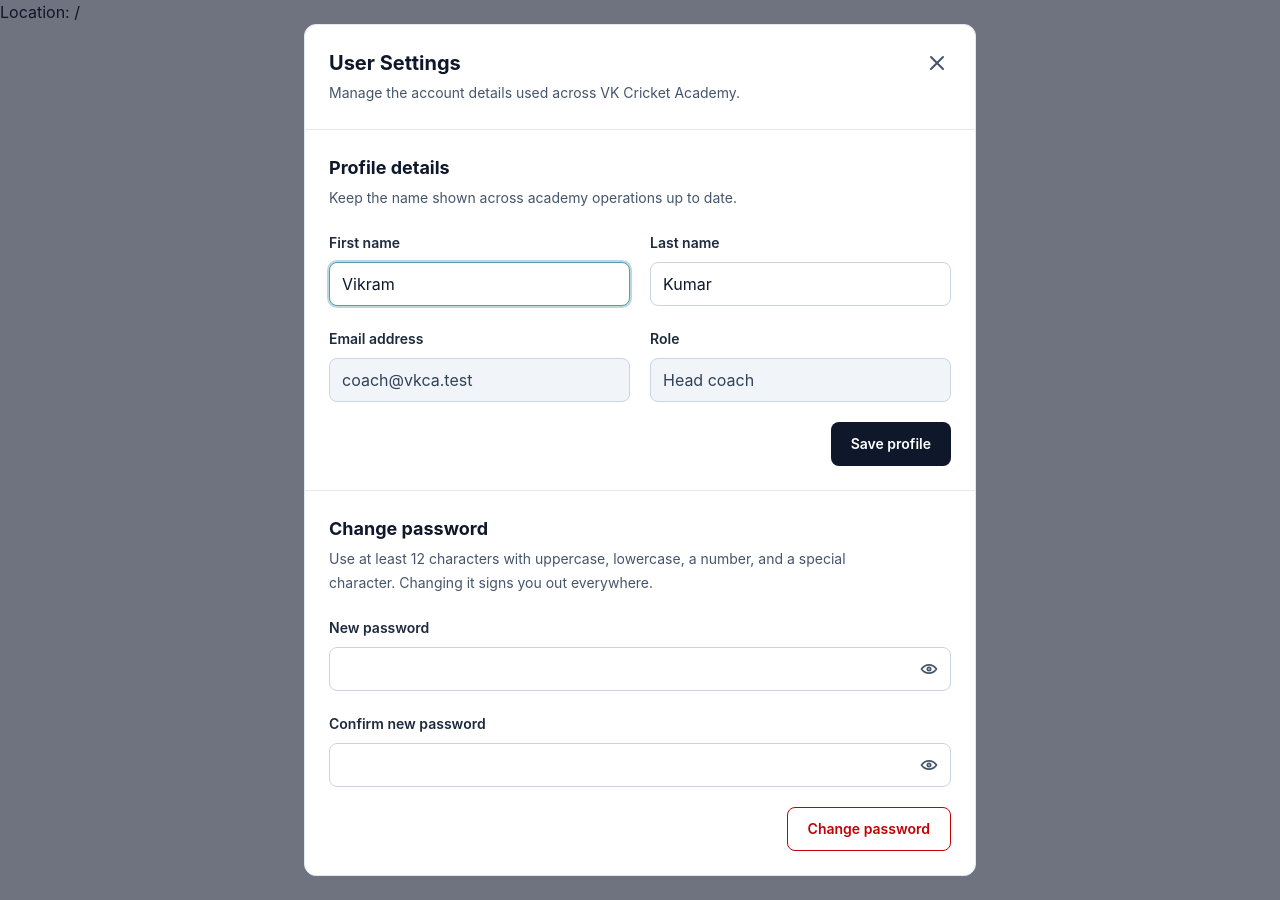
AccountSettingsModal › shows safe profile-update failure feedback
Replace the text in the field labelled "First name" with "Updated": (480, 284) [329,262,630,306]
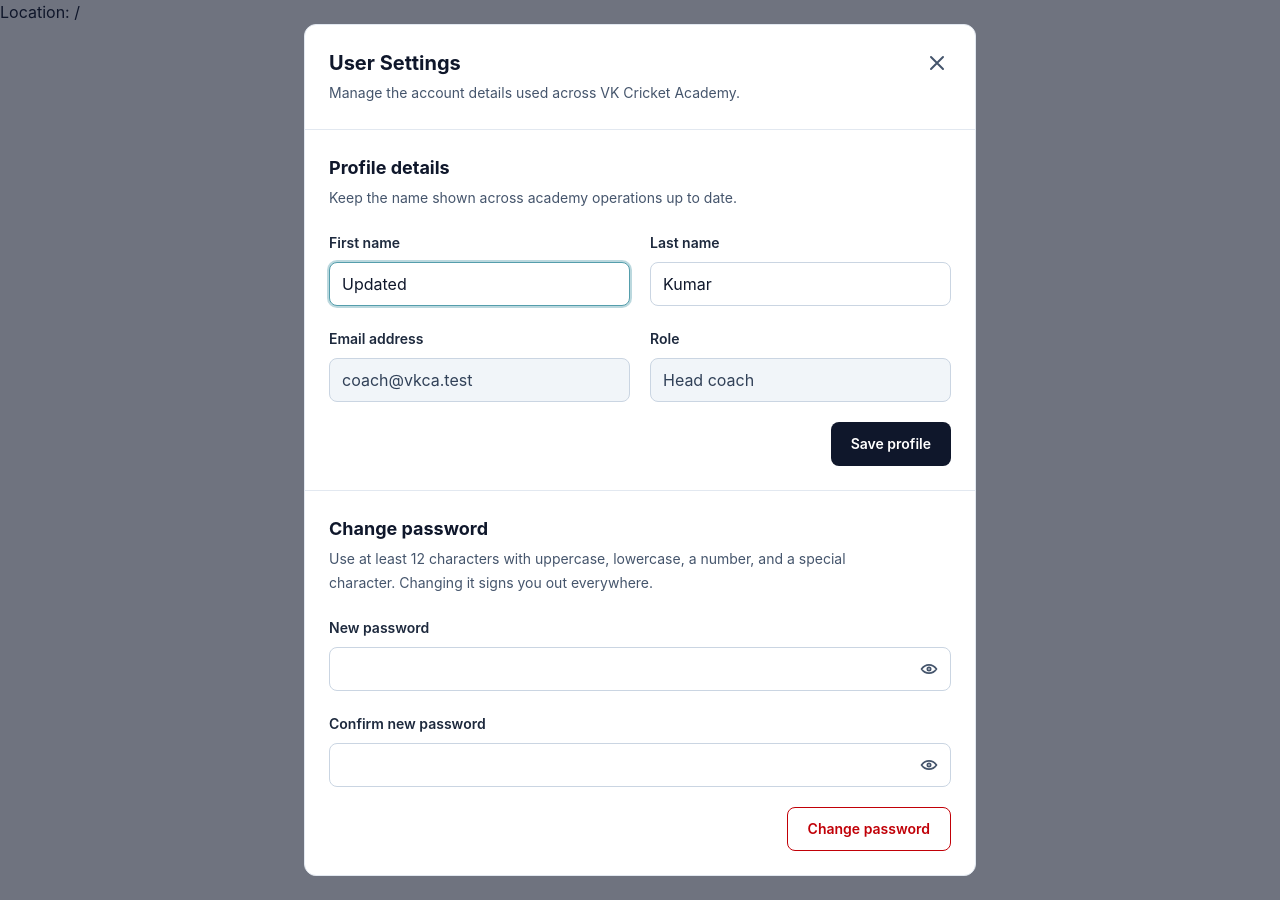
Click the button "Save profile": (891, 444) [831,422,951,466]
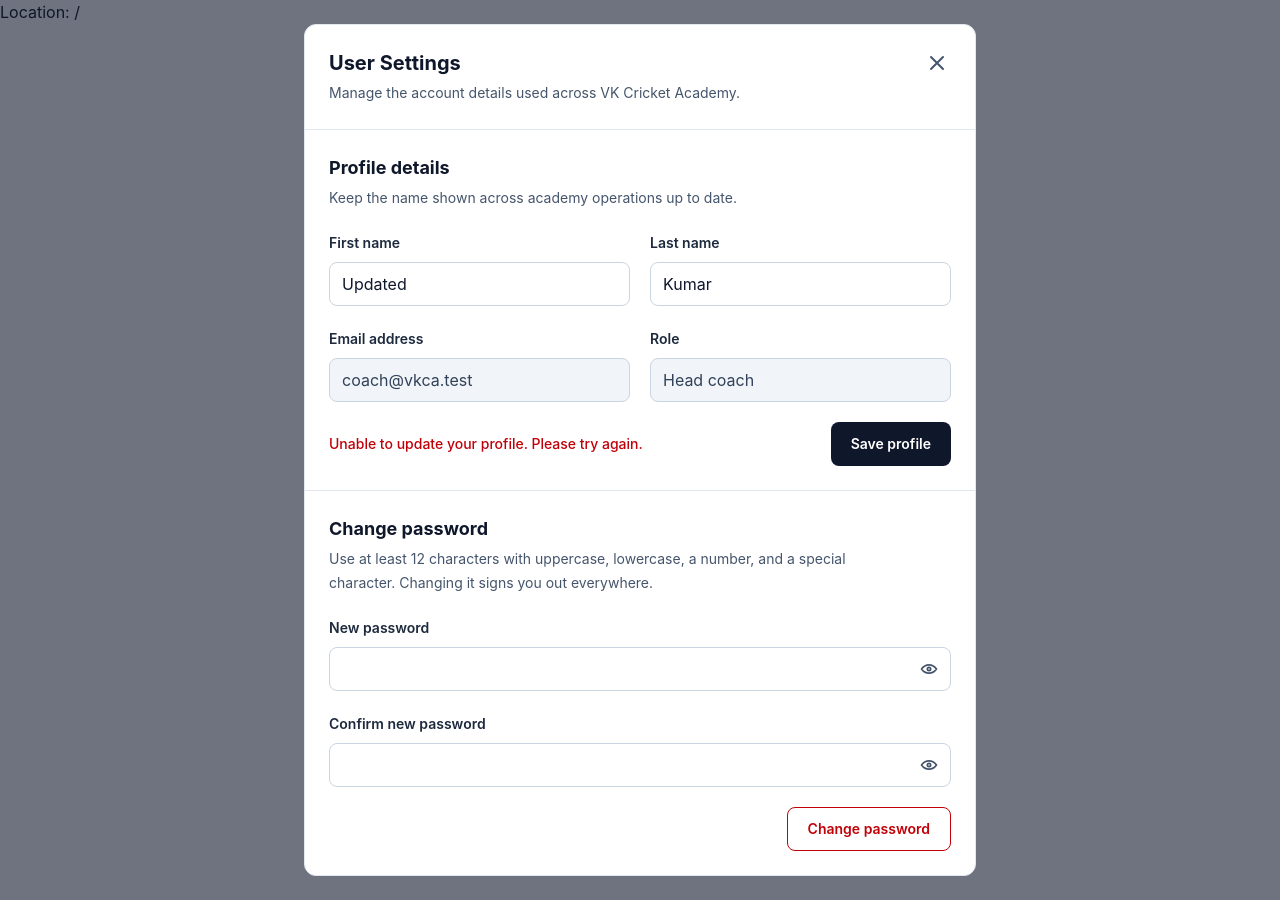
Check: the message reads "Unable to update your profile. Please try again.", box [329,435,643,452]
